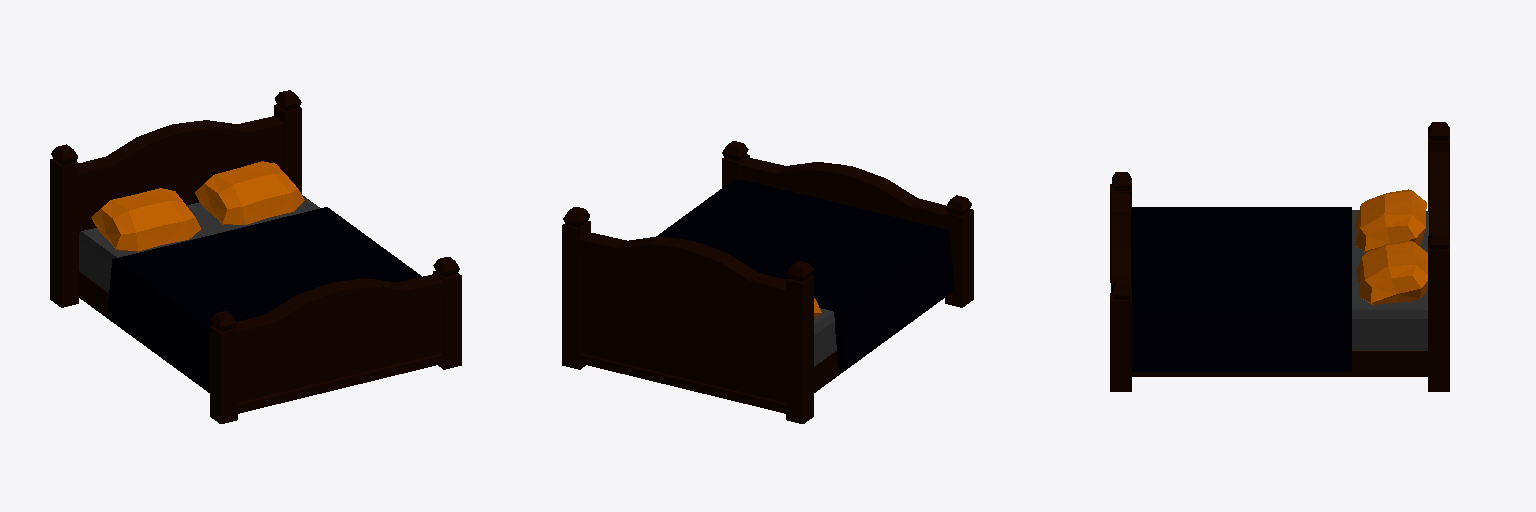
The model's file is DoubleBed1.obj.
The picture shows the model from 3 angles: view 1: azimuth 30°, elevation 25°; view 2: azimuth 150°, elevation 25°; view 3: azimuth 270°, elevation 25°; orthographic projection.
Parts seen in each view (by area): view 1: DoubleBed1_Cube.012, Blanked_DoubleBed1_Cube.010, Pillow1_DoubleBed1_Cube.008, Pillow2_DoubleBed1_Cube.009; view 2: DoubleBed1_Cube.012, Blanked_DoubleBed1_Cube.010; view 3: Blanked_DoubleBed1_Cube.010, DoubleBed1_Cube.012, Pillow2_DoubleBed1_Cube.009, Pillow1_DoubleBed1_Cube.008.
Boxes of the visible parts, <box> form: DoubleBed1_Cube.012: <box>50,90,461,423</box>; Blanked_DoubleBed1_Cube.010: <box>107,207,421,392</box>; Pillow1_DoubleBed1_Cube.008: <box>91,188,200,251</box>; Pillow2_DoubleBed1_Cube.009: <box>195,161,304,224</box>; DoubleBed1_Cube.012: <box>562,141,973,423</box>; Blanked_DoubleBed1_Cube.010: <box>656,179,954,371</box>; Blanked_DoubleBed1_Cube.010: <box>1131,207,1351,371</box>; DoubleBed1_Cube.012: <box>1110,122,1449,391</box>; Pillow2_DoubleBed1_Cube.009: <box>1356,240,1427,304</box>; Pillow1_DoubleBed1_Cube.008: <box>1355,189,1426,251</box>.
Bounding box in the file's own units: 1.98 × 1.21 × 2.43.